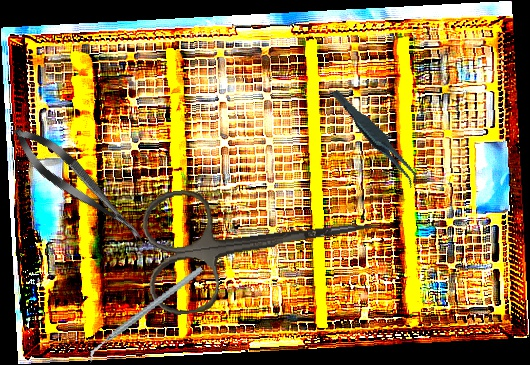Chopper: (73, 266, 218, 363)
Iris Scissors: (138, 167, 387, 318)
Micro Scissor: (4, 117, 154, 253)
Tissue Forceps: (330, 75, 422, 201)
